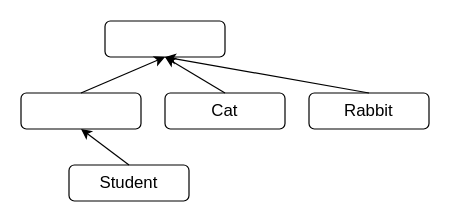
Some shapes in this 450 by 222 pixel diagram are drawn without their labels. The centre of each missing label's shape, as x and y in pixels:
"Animal" belongs at (x=164, y=38).
"Person" belongs at (x=80, y=110).
